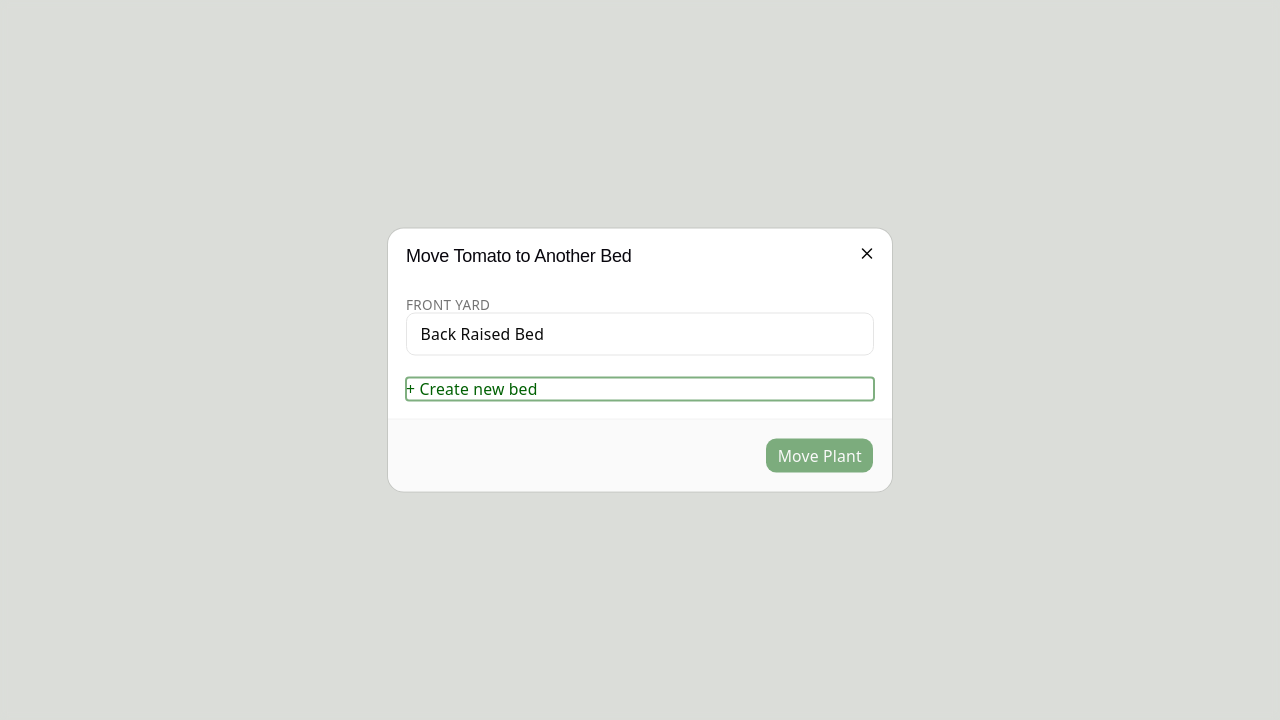
Test case: MovePlantDialog › creates a new bed and returns to the pick step
Expected: the button "Back Raised Bed" is shown, top-left (406, 313), bottom-right (874, 356)
Step 1. Click the button "+ Create new bed" → (472, 389), box top-left (406, 378), bottom-right (874, 400)
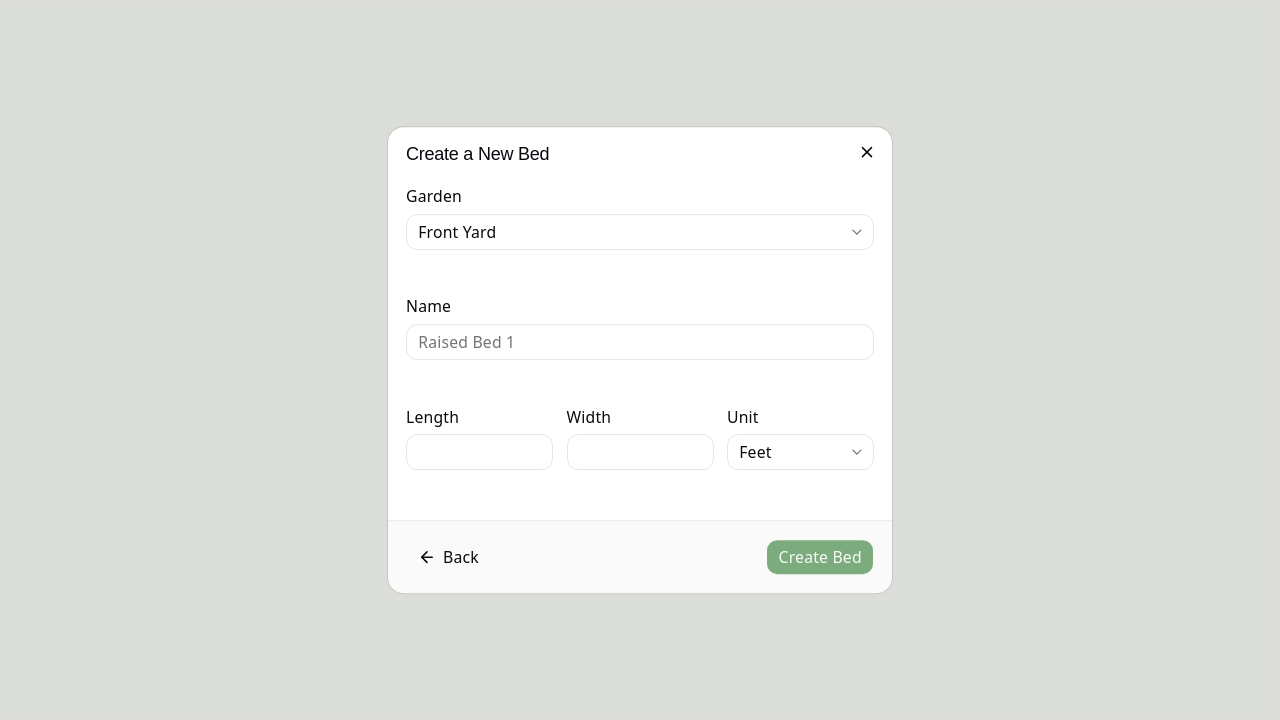
Step 2. Type "New Bed" into the field labelled "Name" → (640, 342), box top-left (406, 324), bottom-right (874, 360)
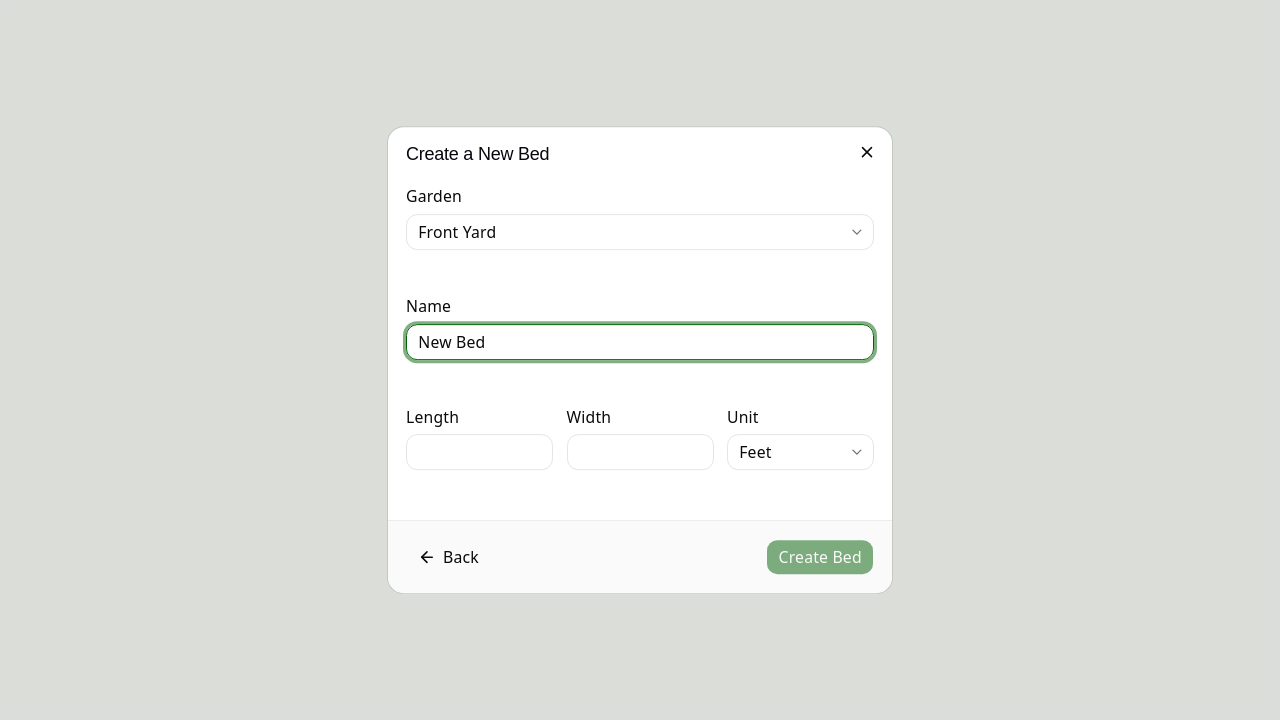
Step 3. Type "4" into the number field labelled "Length" → (480, 452), box top-left (406, 434), bottom-right (553, 470)
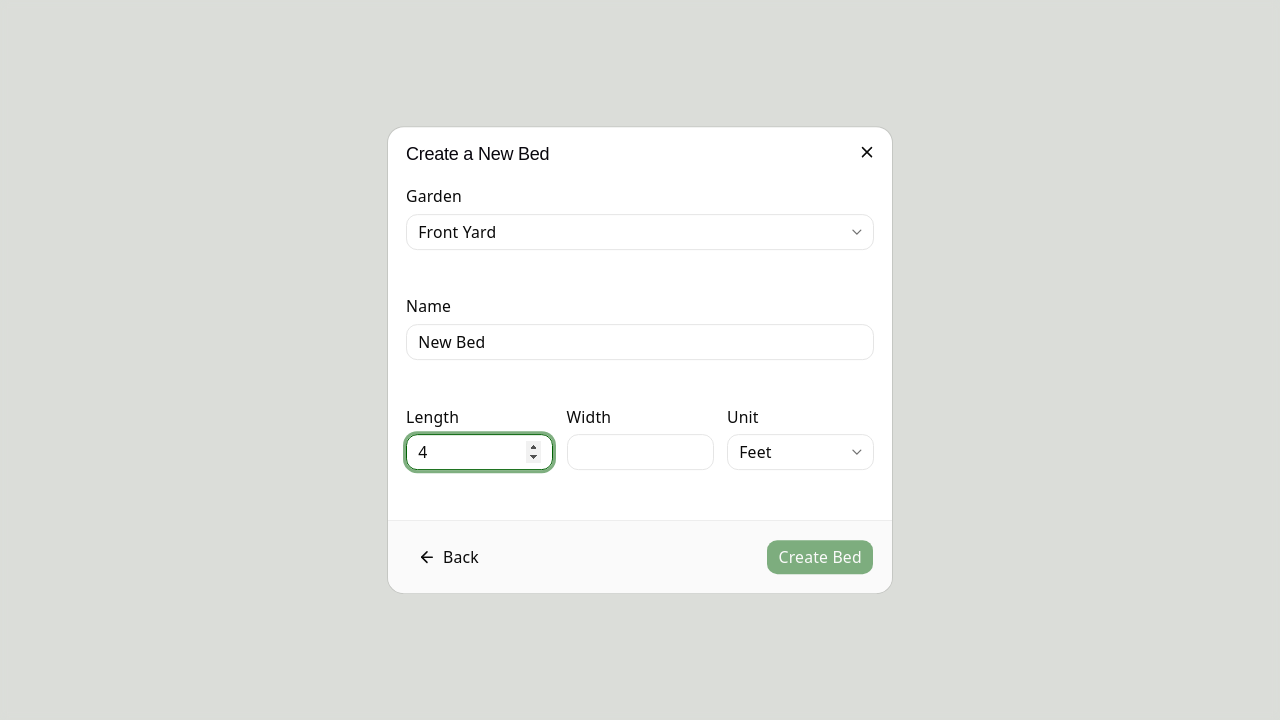
Step 4. Type "4" into the number field labelled "Width" → (640, 452), box top-left (566, 434), bottom-right (714, 470)
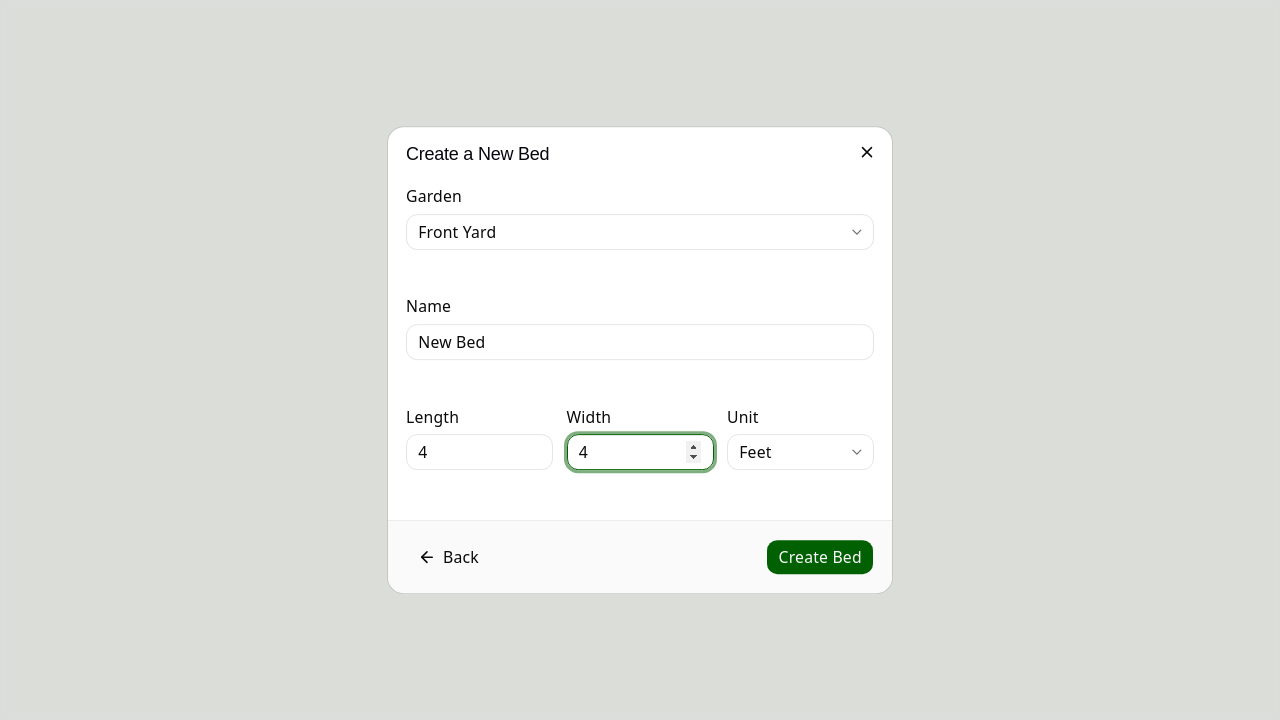
Step 5. Click the button "Create Bed" → (820, 557), box top-left (766, 539), bottom-right (874, 575)
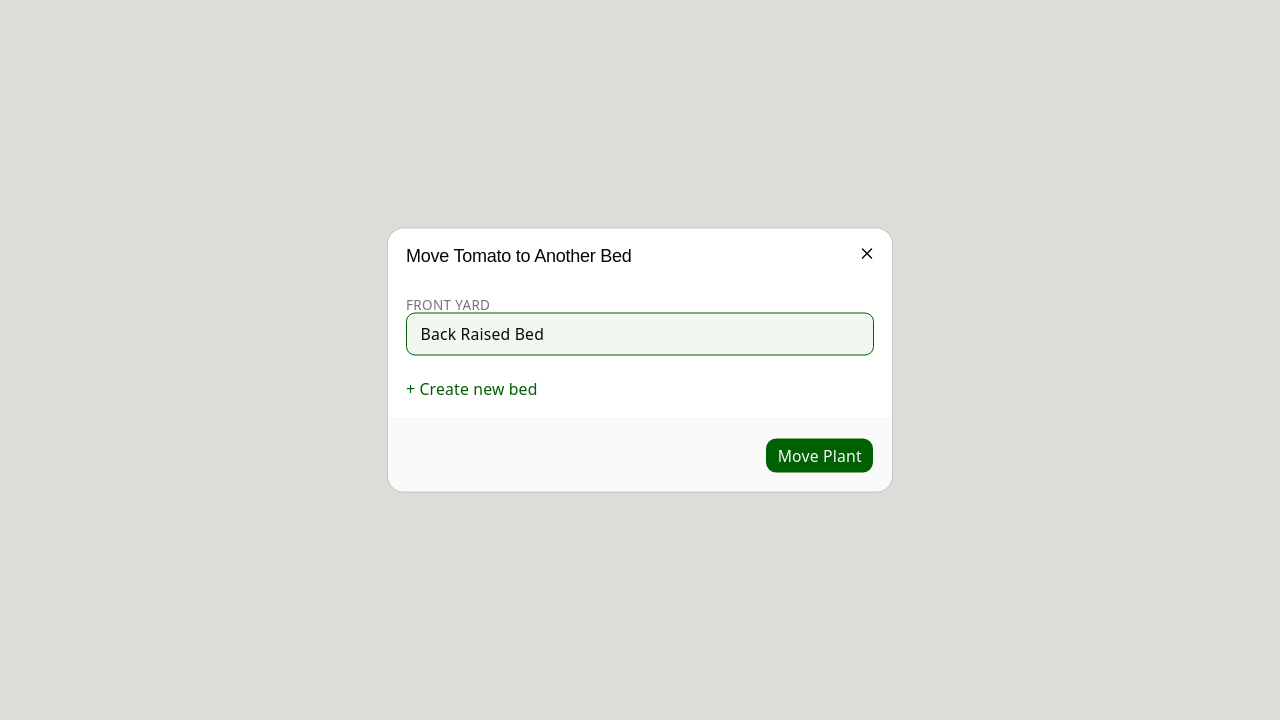
Now the heading "Move Tomato to Another Bed" is shown, box top-left (406, 246), bottom-right (632, 266)
